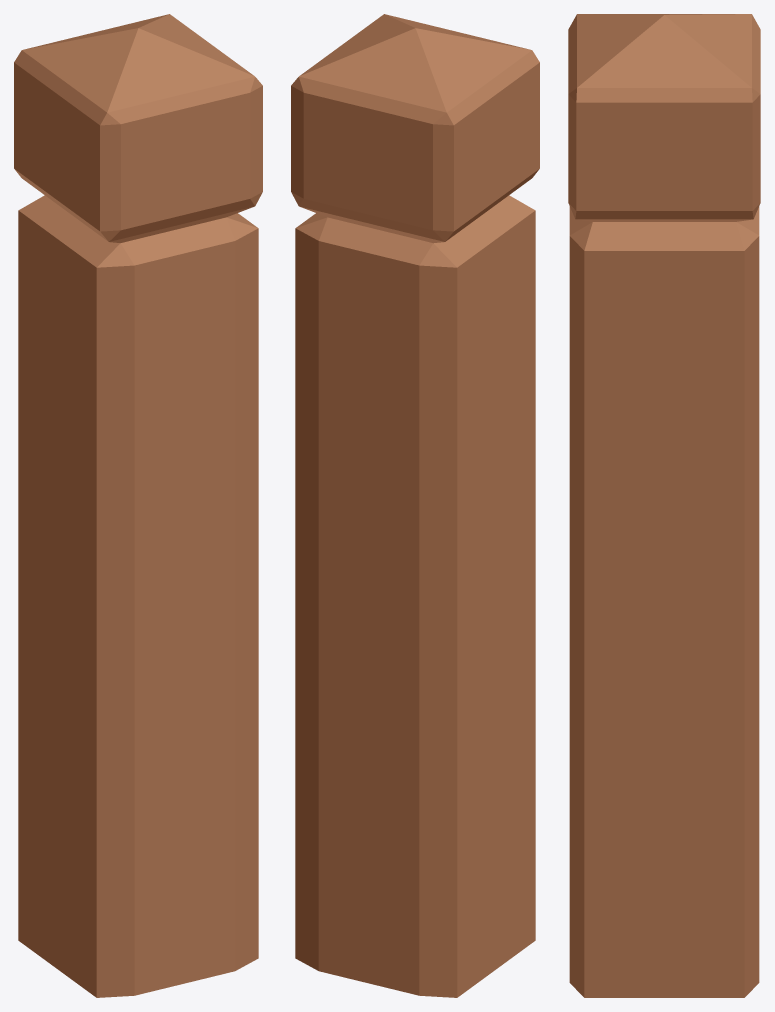
File: Fence_Corner_2.fbx
The picture shows the model from 3 angles, left to right: view 1: azimuth 30°, elevation 25°; view 2: azimuth 150°, elevation 25°; view 3: azimuth 270°, elevation 25°; orthographic projection. The views are drawn at different scales.
Visible parts, largest first — view 1: Cube.024; view 2: Cube.024; view 3: Cube.024.
Part boxes in pixels (left/top/right/bottom): Cube.024: left=14, top=14, right=262, bottom=997; Cube.024: left=291, top=14, right=539, bottom=997; Cube.024: left=568, top=14, right=760, bottom=997.
Bounding box in the file's own units: 72.56 × 392 × 72.58.
